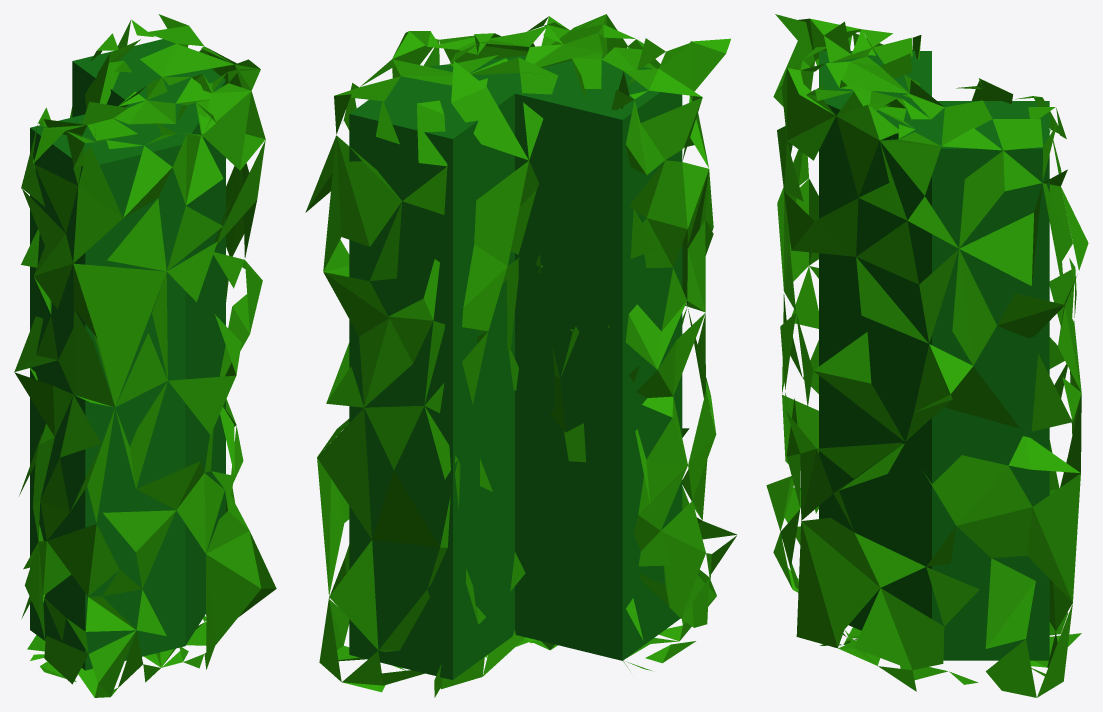
File: kose_lod2.fbx
3 views of the same model, side by side, from view 1: azimuth 30°, elevation 25°; view 2: azimuth 150°, elevation 25°; view 3: azimuth 270°, elevation 25° (orthographic). The views are drawn at different scales.
Visible parts, largest first — view 1: Cube.050; view 2: Cube.050; view 3: Cube.050.
Boxes of the visible parts, box(x1,y1,x2,y2) form: Cube.050: box(14, 14, 276, 697); Cube.050: box(305, 14, 736, 697); Cube.050: box(766, 14, 1088, 697).
Size of the model in its own units: 5.86 by 11.54 by 5.7.
